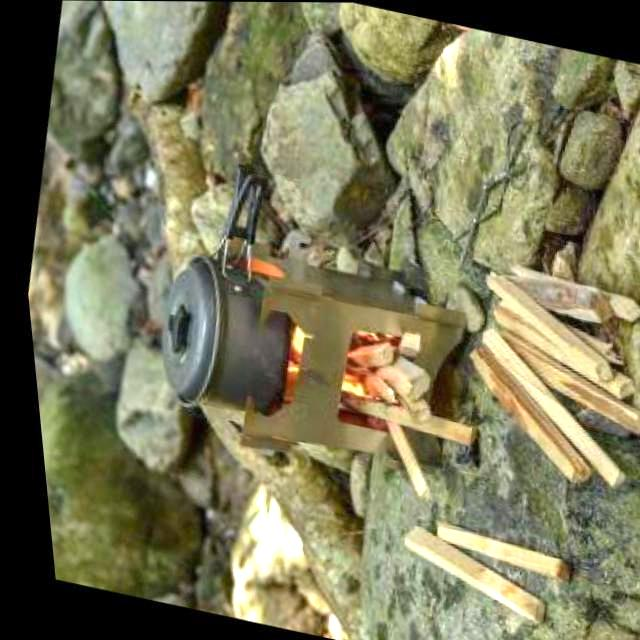fire: (252, 297, 388, 403)
